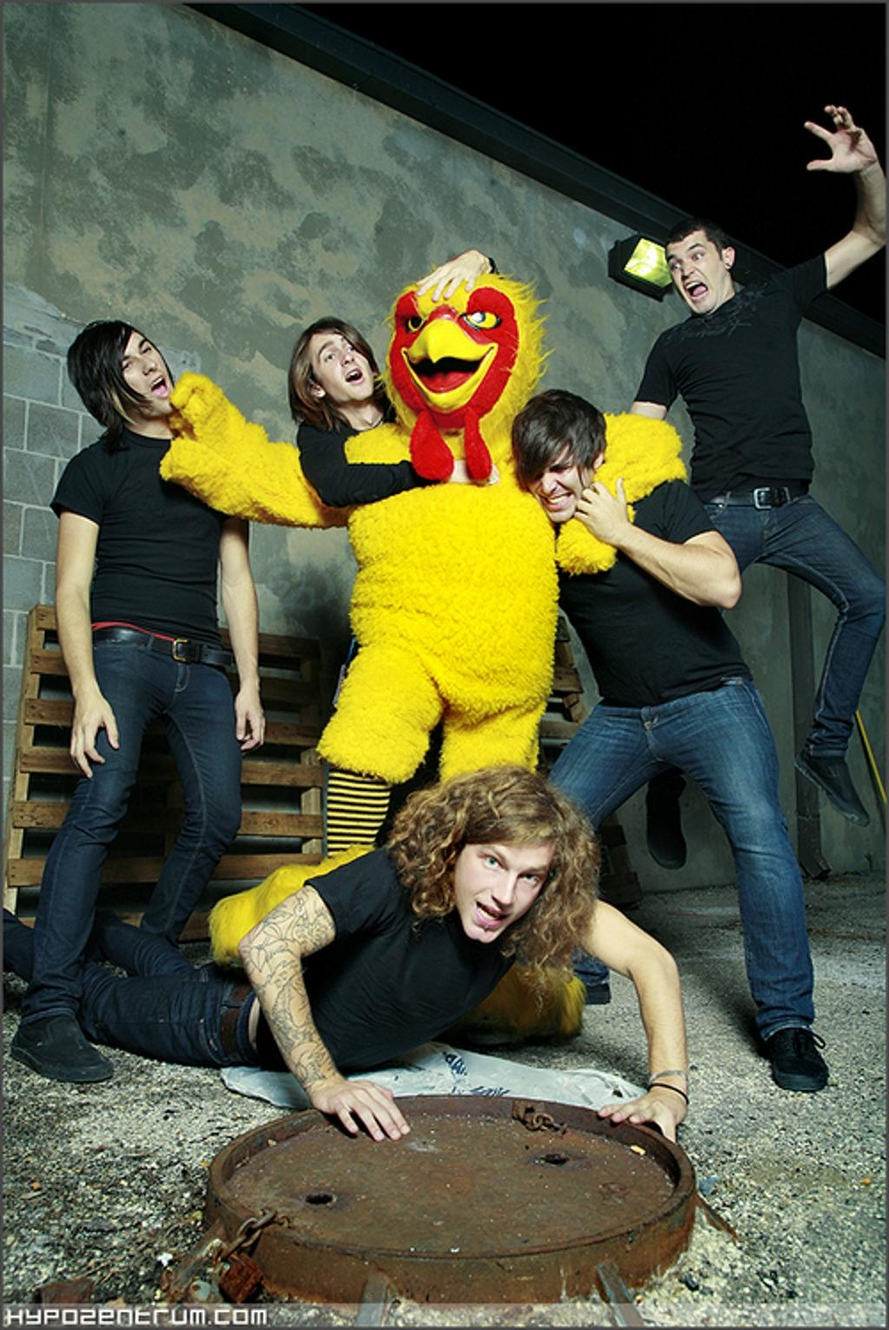human_face: (457, 819, 553, 944), (106, 332, 171, 416), (306, 329, 374, 405), (522, 436, 582, 522), (667, 233, 722, 314)
